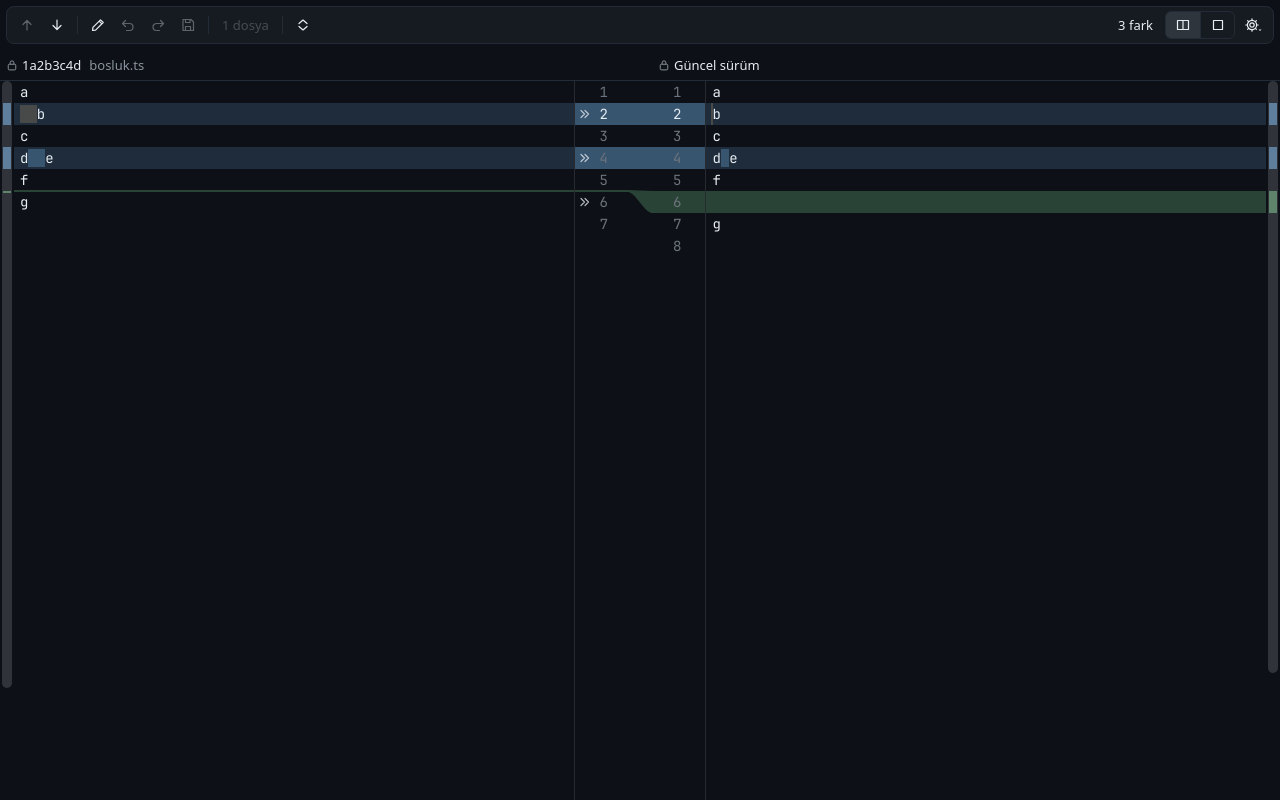
Scenario: dişli menüsündeki seçenekler › yok sayılan farklar: hiçbiri 3, baştaki/sondaki 2, bütün boşluklar 1, boş satırlar da 0
This screenshot has width=1280, height=800.
Step 1. Click the button named "Ayarlar (Ctrl+Shift+D)" → [1253, 25], box [1239,11,1267,39]
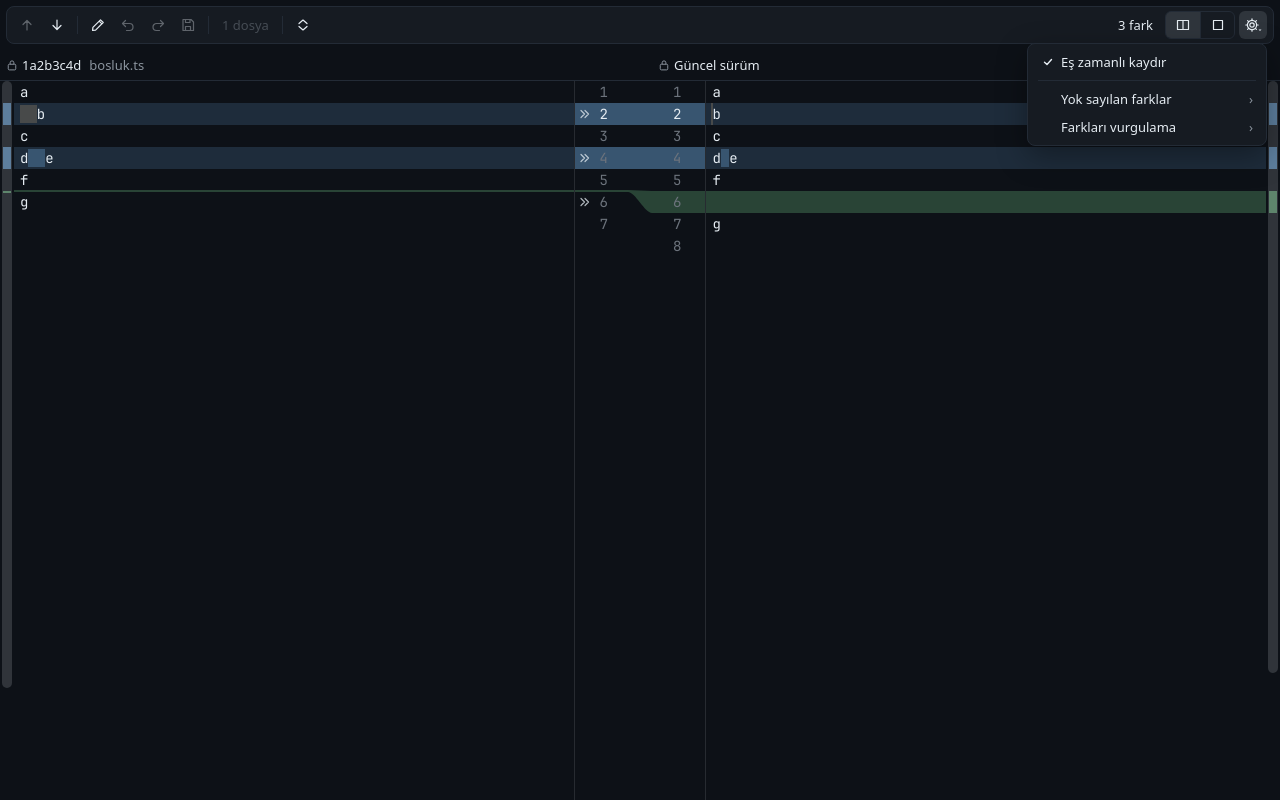
Step 2. Hover over the text "Yok sayılan farklar" → [1147, 99], box [1032,85,1262,113]
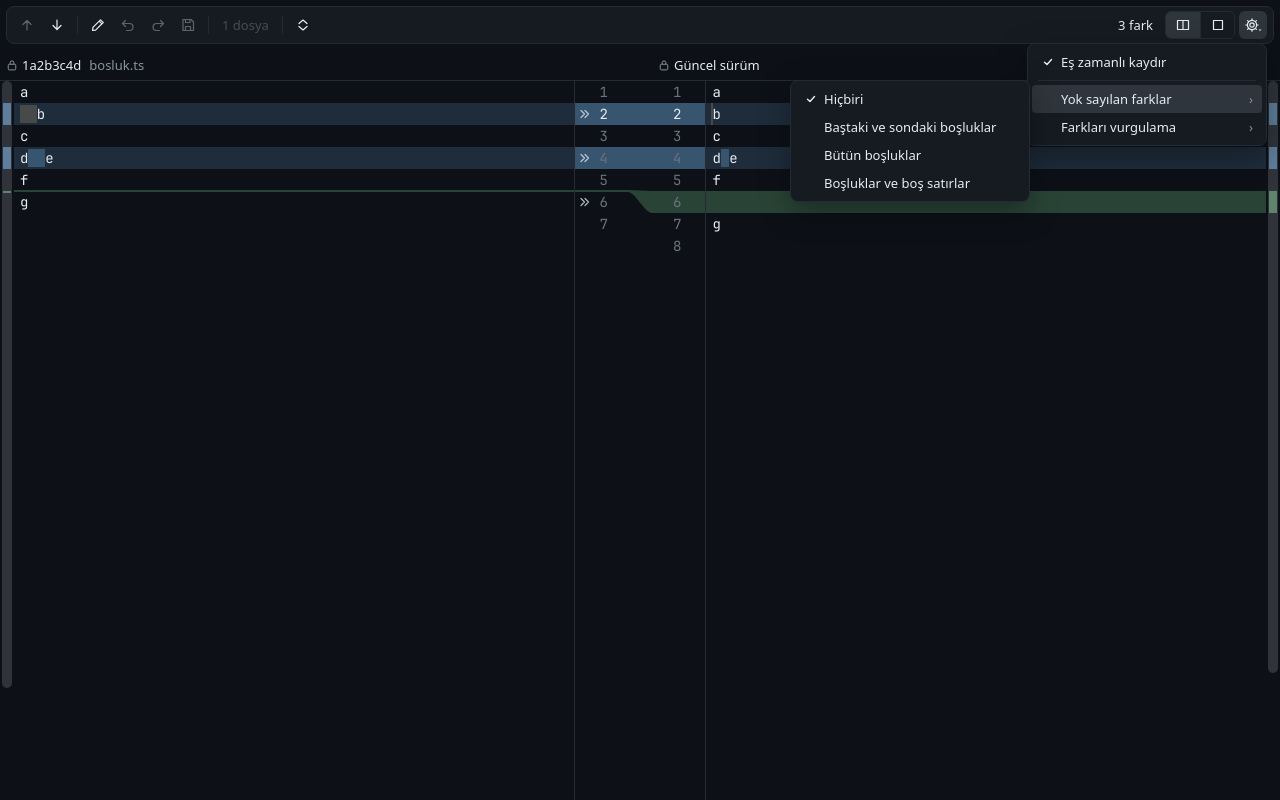
Step 3. Click the menu item "Baştaki ve sondaki boşluklar" → [910, 127], box [795,113,1025,141]
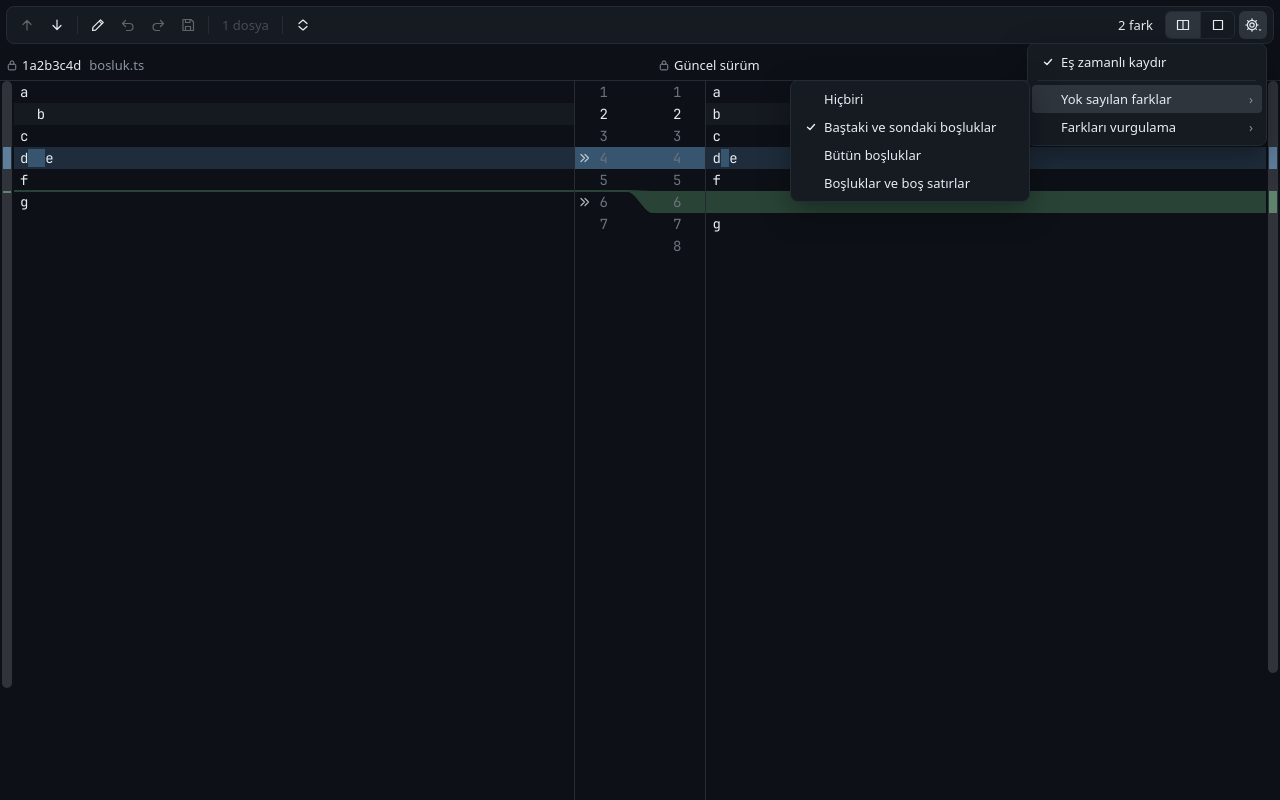
Expected: the text with class "dw-status" reads "2 fark", [1118,16,1153,34]
Step 4. Click the menu item "Bütün boşluklar" → [910, 155], box [795,141,1025,169]
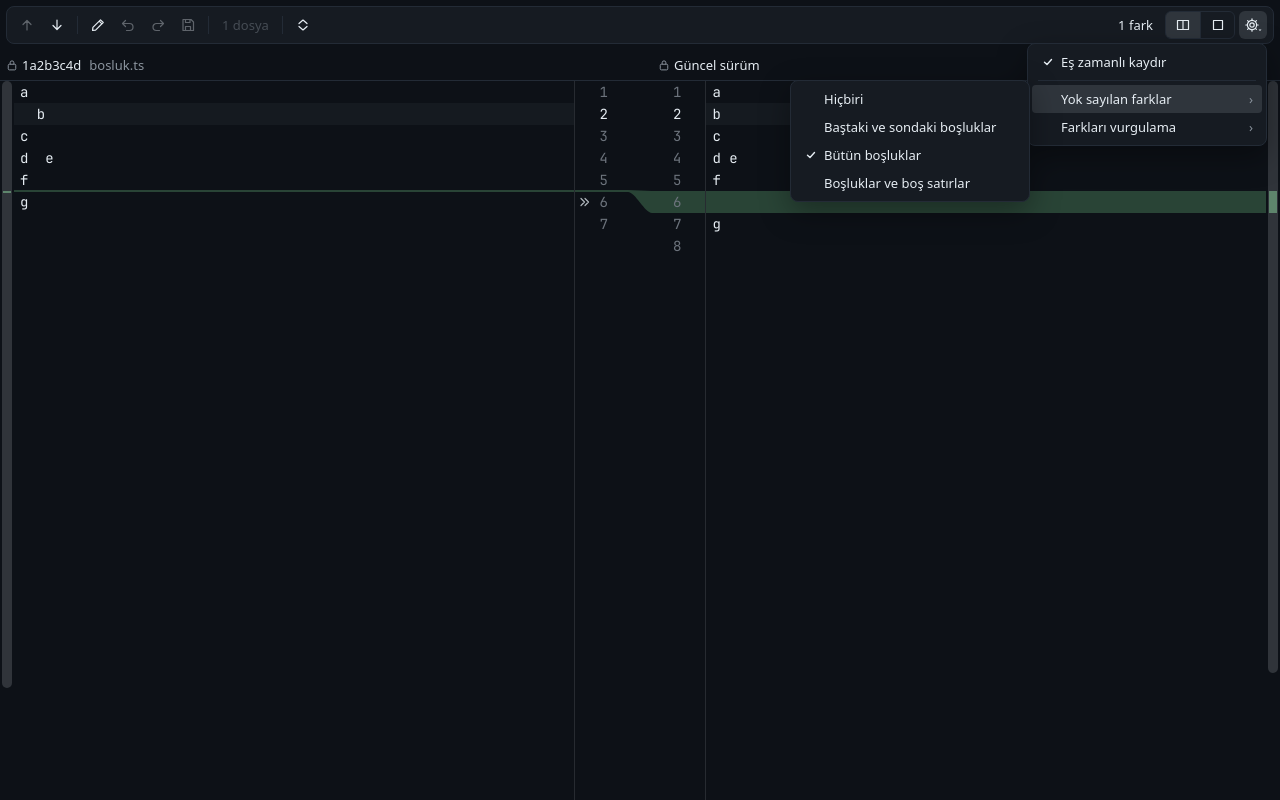
Expected: the text with class "dw-status" reads "1 fark", [1118,16,1153,34]
Step 5. Click the menu item "Boşluklar ve boş satırlar" → [910, 183], box [795,169,1025,197]
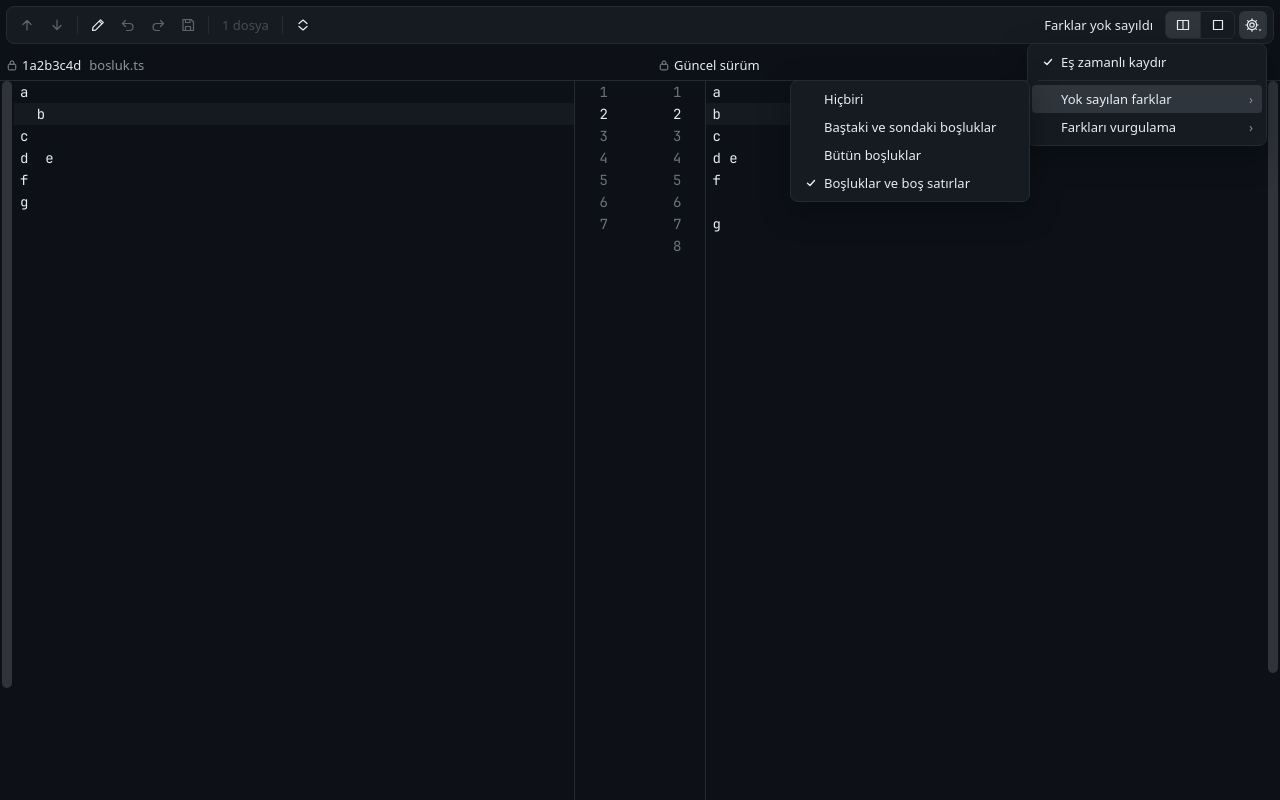
Expected: the text with class "dw-status" reads "Farklar yok sayıldı", [1044,16,1153,34]
Step 6. Click the menu item "Hiçbiri" → [910, 99], box [795,85,1025,113]
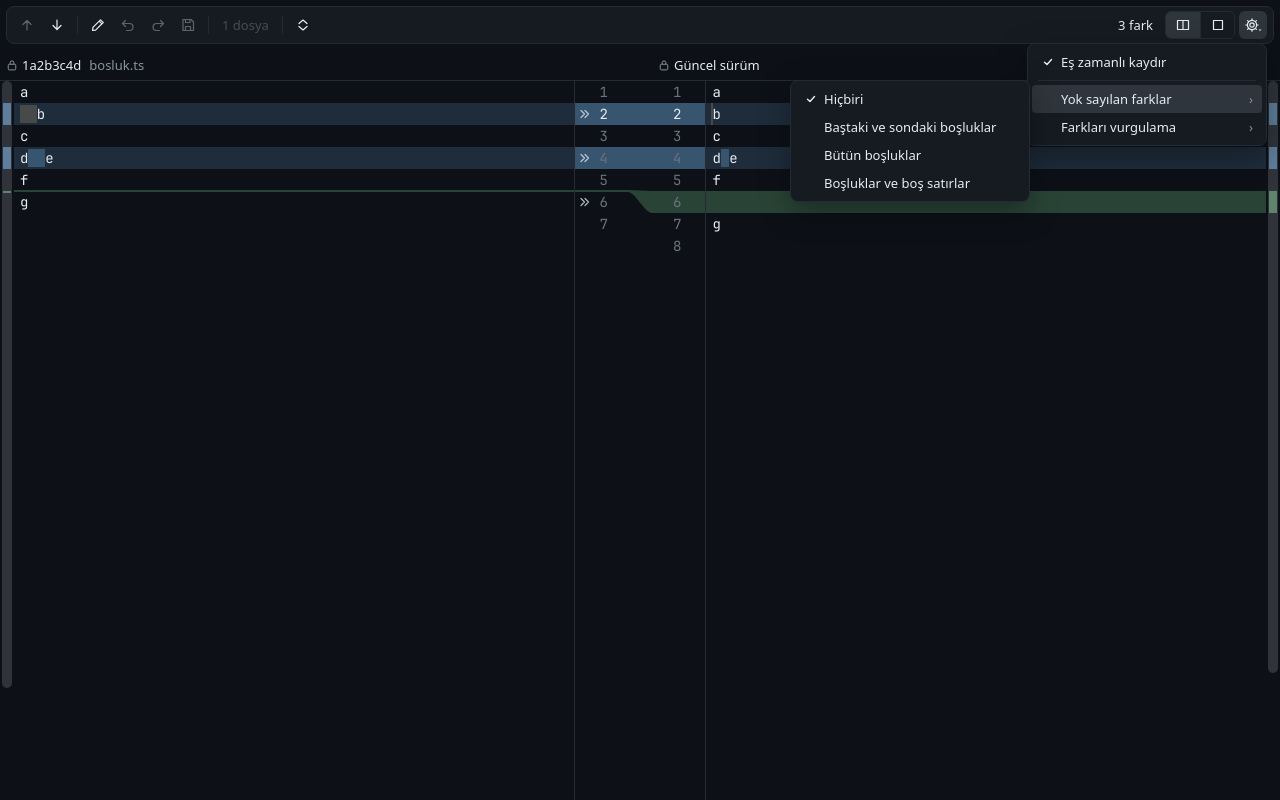
Expected: the text with class "dw-status" reads "3 fark", [1118,16,1153,34]
